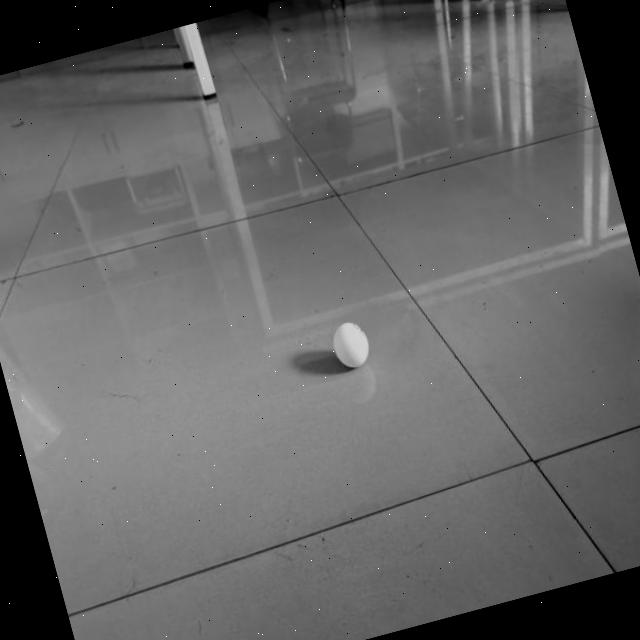ping-pong-ball: (329, 316, 374, 372)
